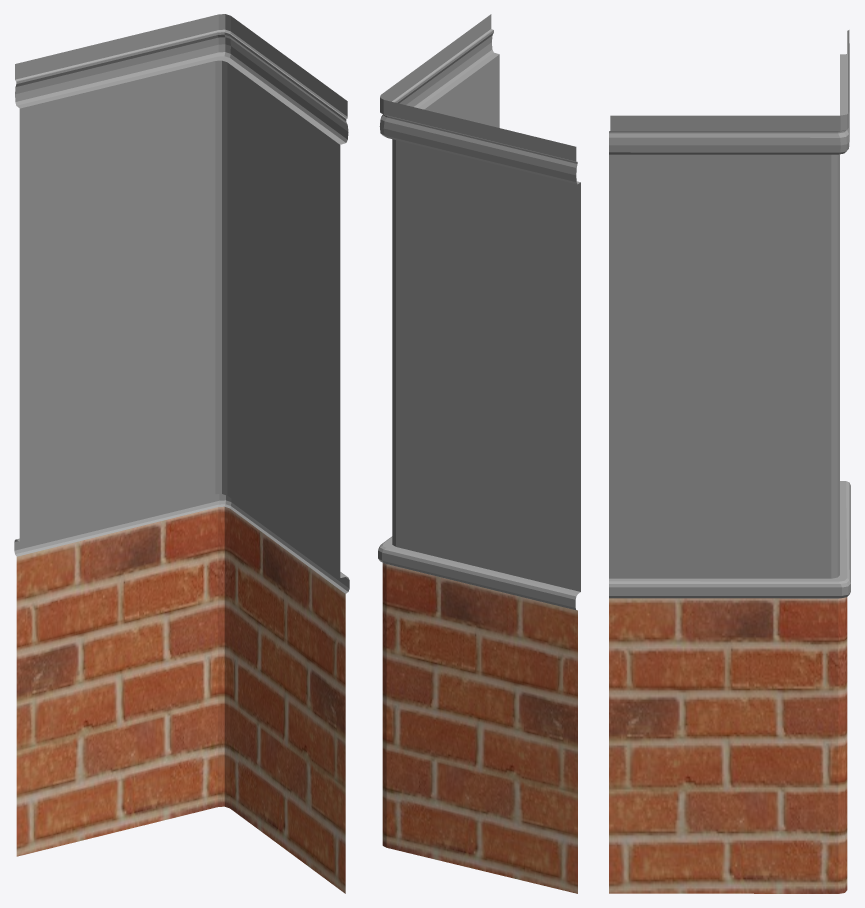
The model's file is SM_MurCoinD.fbx.
3 renders of one model, left to right at view 1: azimuth 30°, elevation 25°; view 2: azimuth 150°, elevation 25°; view 3: azimuth 270°, elevation 25°, orthographic. The views are drawn at different scales.
Visible parts, largest first — view 1: SM_MurCoinD; view 2: SM_MurCoinD; view 3: SM_MurCoinD.
Part boxes in pixels (bbox=[...]): SM_MurCoinD: bbox=[14, 14, 349, 893]; SM_MurCoinD: bbox=[378, 14, 580, 893]; SM_MurCoinD: bbox=[609, 30, 850, 893].
Size of the model in its own units: 74.22 by 264 by 74.21.
Materials: 4 (1 with a texture image).
